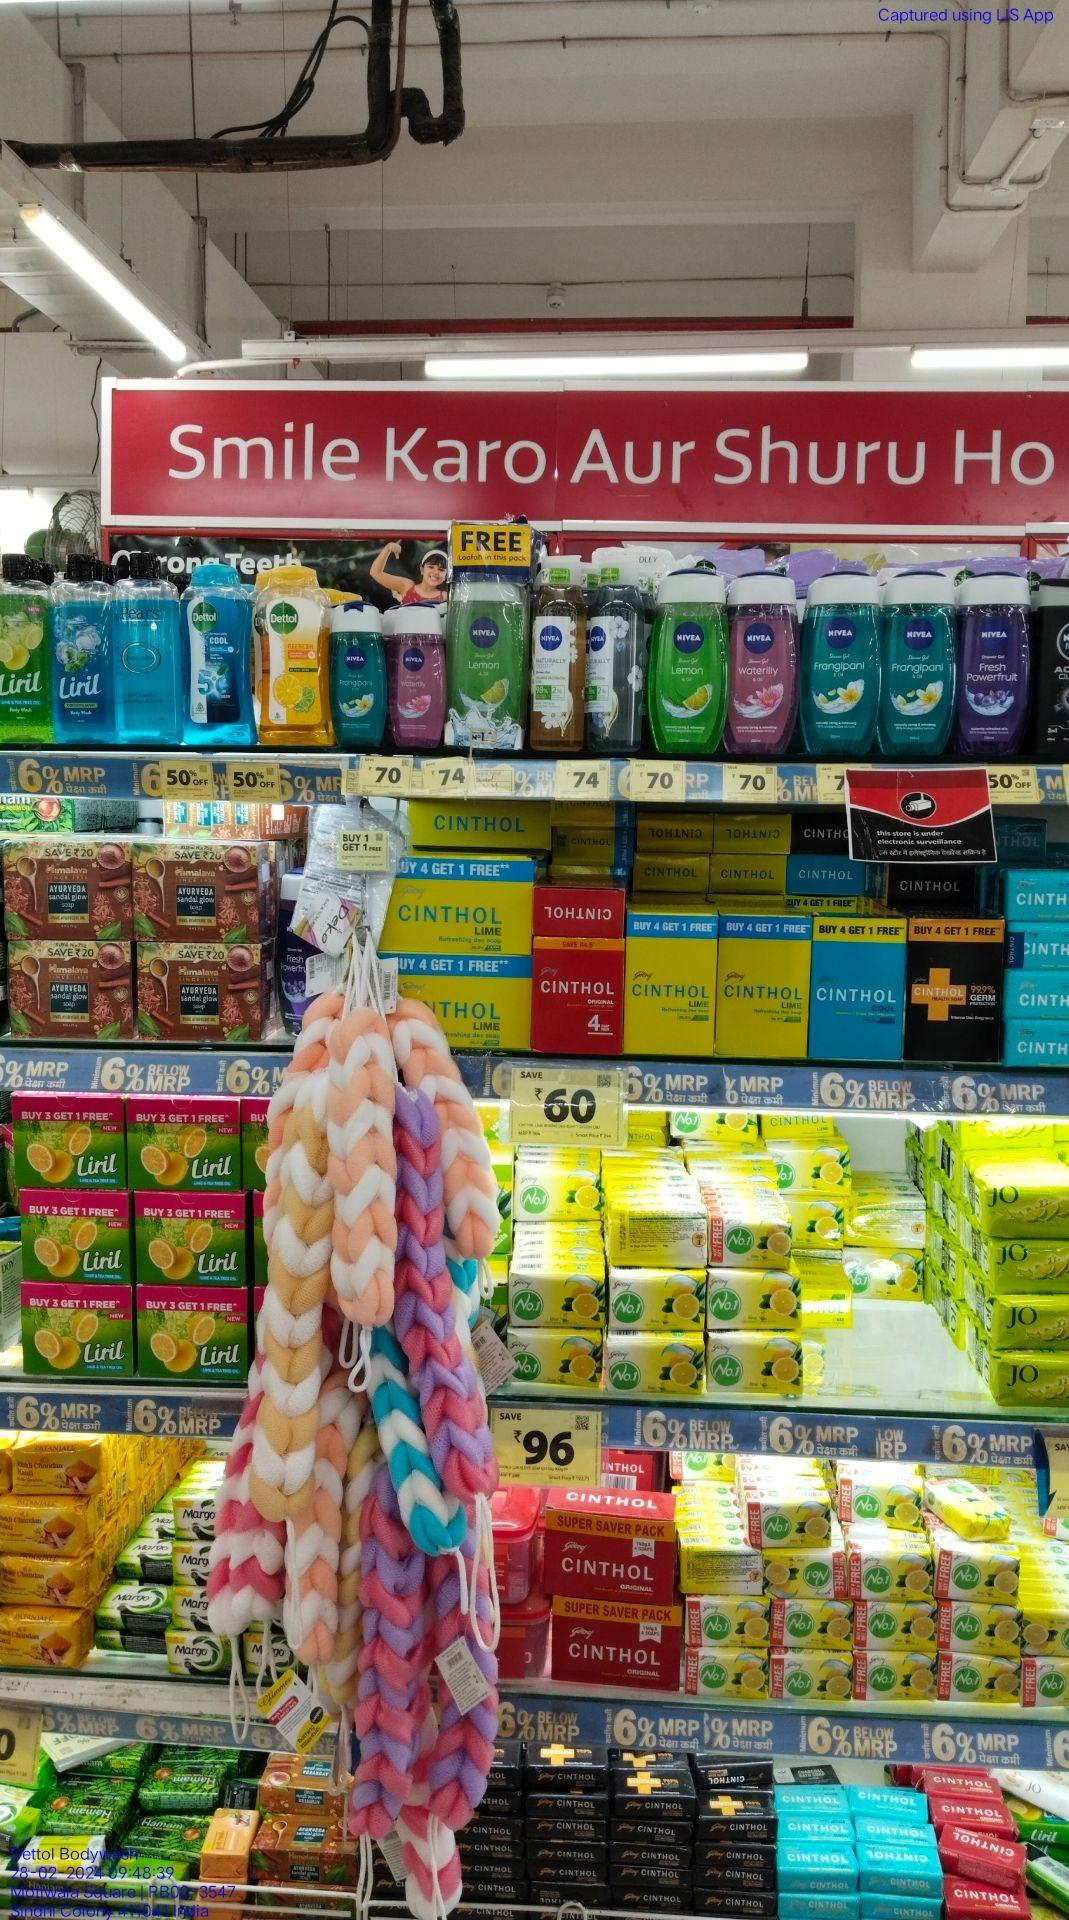Dettol_Bodywash_Cool: (186, 562, 250, 745)
Dettol_Bodywash_Refresh: (258, 558, 328, 746)
Liril_Cooling_Mint_Body_Wash_250ML: (53, 553, 109, 749)
Liril_Lime_and_Tea_Tree_Oil_Body_Wash_250ML: (0, 550, 50, 746)
Nivea_Shower_Gel_Frangipani_and_Oil_250ML: (802, 568, 877, 757), (882, 568, 956, 759), (333, 595, 387, 753)
Nivea_Shower_Gel_Fresh_Powerfruit_250ML: (960, 565, 1028, 754)
Nivea_Shower_Gel_Lemon_and_Oil_250ML: (658, 571, 723, 758)
Nivea_Shower_Gel_Waterlily_and_Oil_250ML: (725, 572, 796, 758), (392, 595, 444, 753)
Pears_Pure_Glycerin_and_Mint_Extracts_Body_Wash_250ML: (116, 551, 182, 742)
